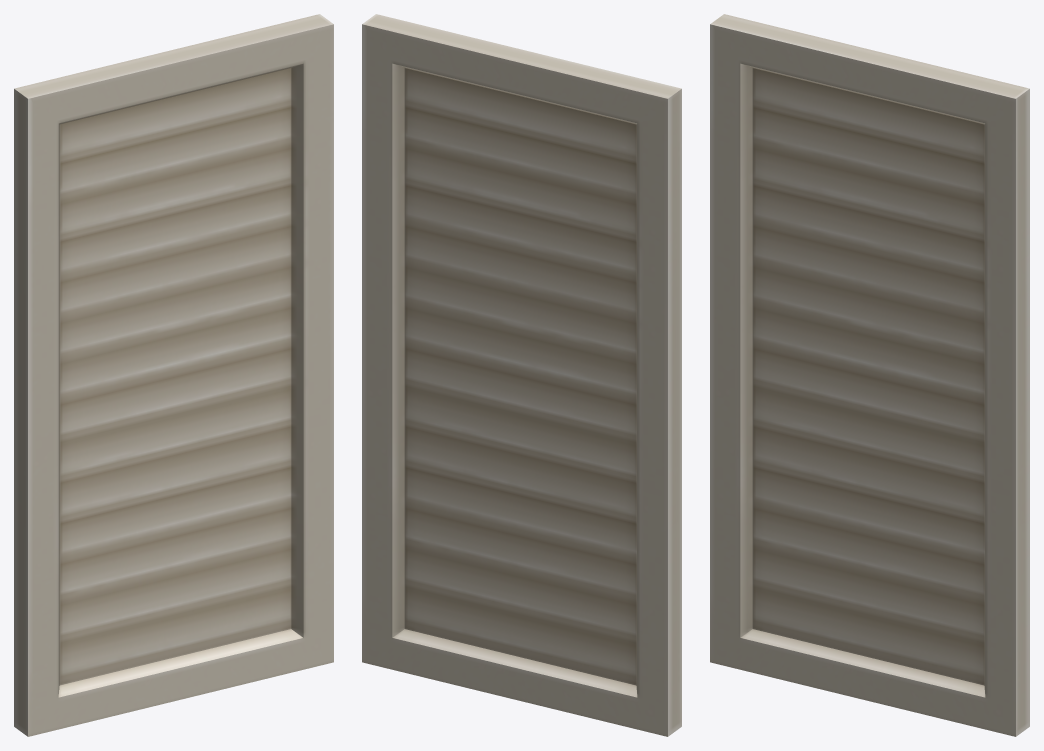
The model's file is Shutter_2_2.FBX.
The picture shows the model from 3 angles, left to right: view 1: azimuth 30°, elevation 25°; view 2: azimuth 150°, elevation 25°; view 3: azimuth 330°, elevation 25°; orthographic projection.
Visible parts, largest first — view 1: Shutter_2_2; view 2: Shutter_2_2; view 3: Shutter_2_2.
Part boxes in pixels (x1,y1,x2,y2): Shutter_2_2: (14, 14, 333, 736); Shutter_2_2: (362, 14, 681, 736); Shutter_2_2: (710, 14, 1029, 736).
Size of the model in its own units: 62.8 by 125 by 5.
